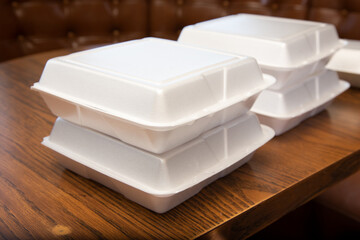styrofoam: (29, 37, 278, 155)
